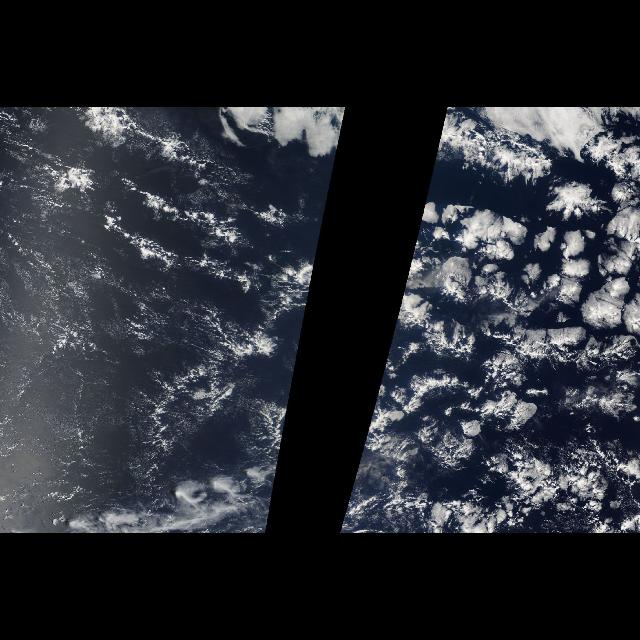Flower: (339, 111, 639, 534), (217, 111, 346, 534)
Sugar: (0, 216, 218, 516)
